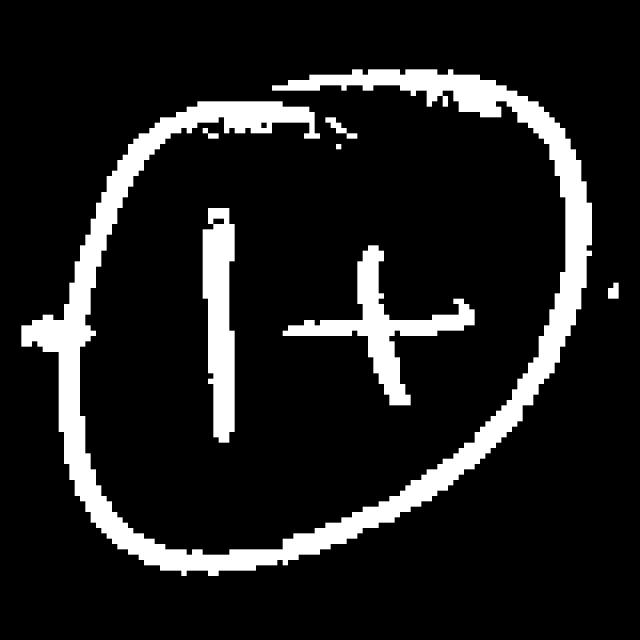voltage_source: (48, 58, 583, 583)
